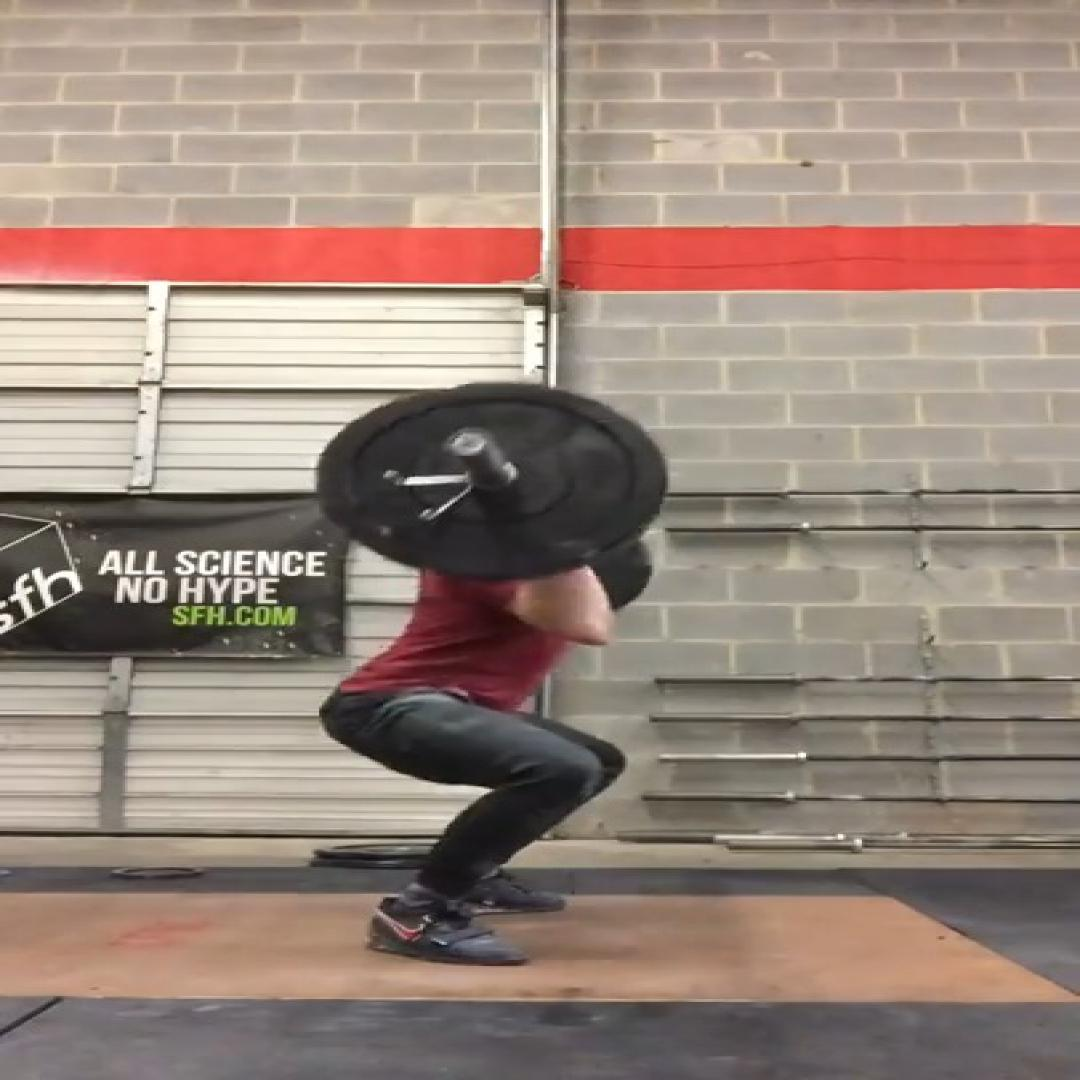Bar: (439, 426, 497, 459)
Barbell: (316, 381, 668, 577)
